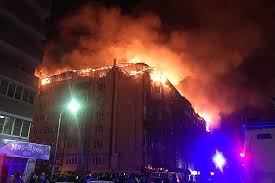fire: (45, 40, 204, 114)
